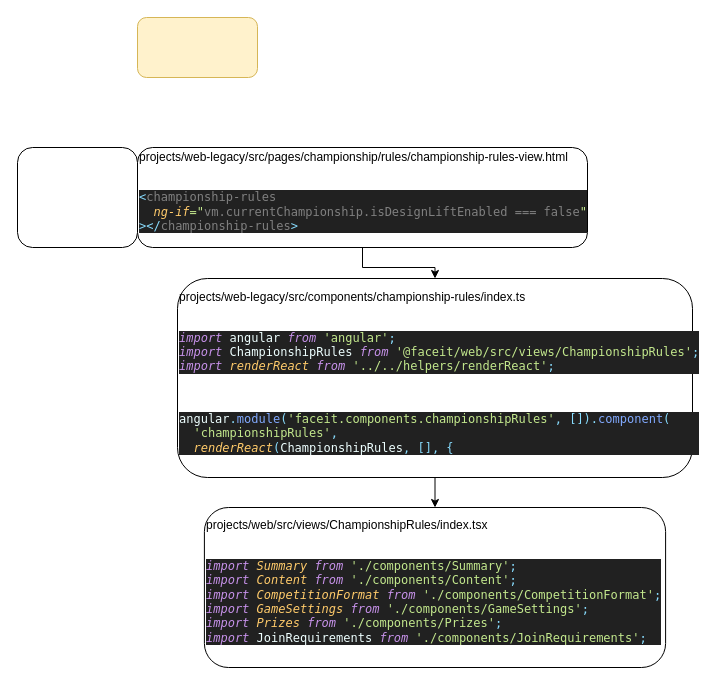
This 717x685 diagram has some shape labels left out. Here are the shapes that lost their labels. From the top down, the box of each, then its label:
(136, 16, 258, 78): The Rules tab Angular code
(16, 146, 138, 248): View
